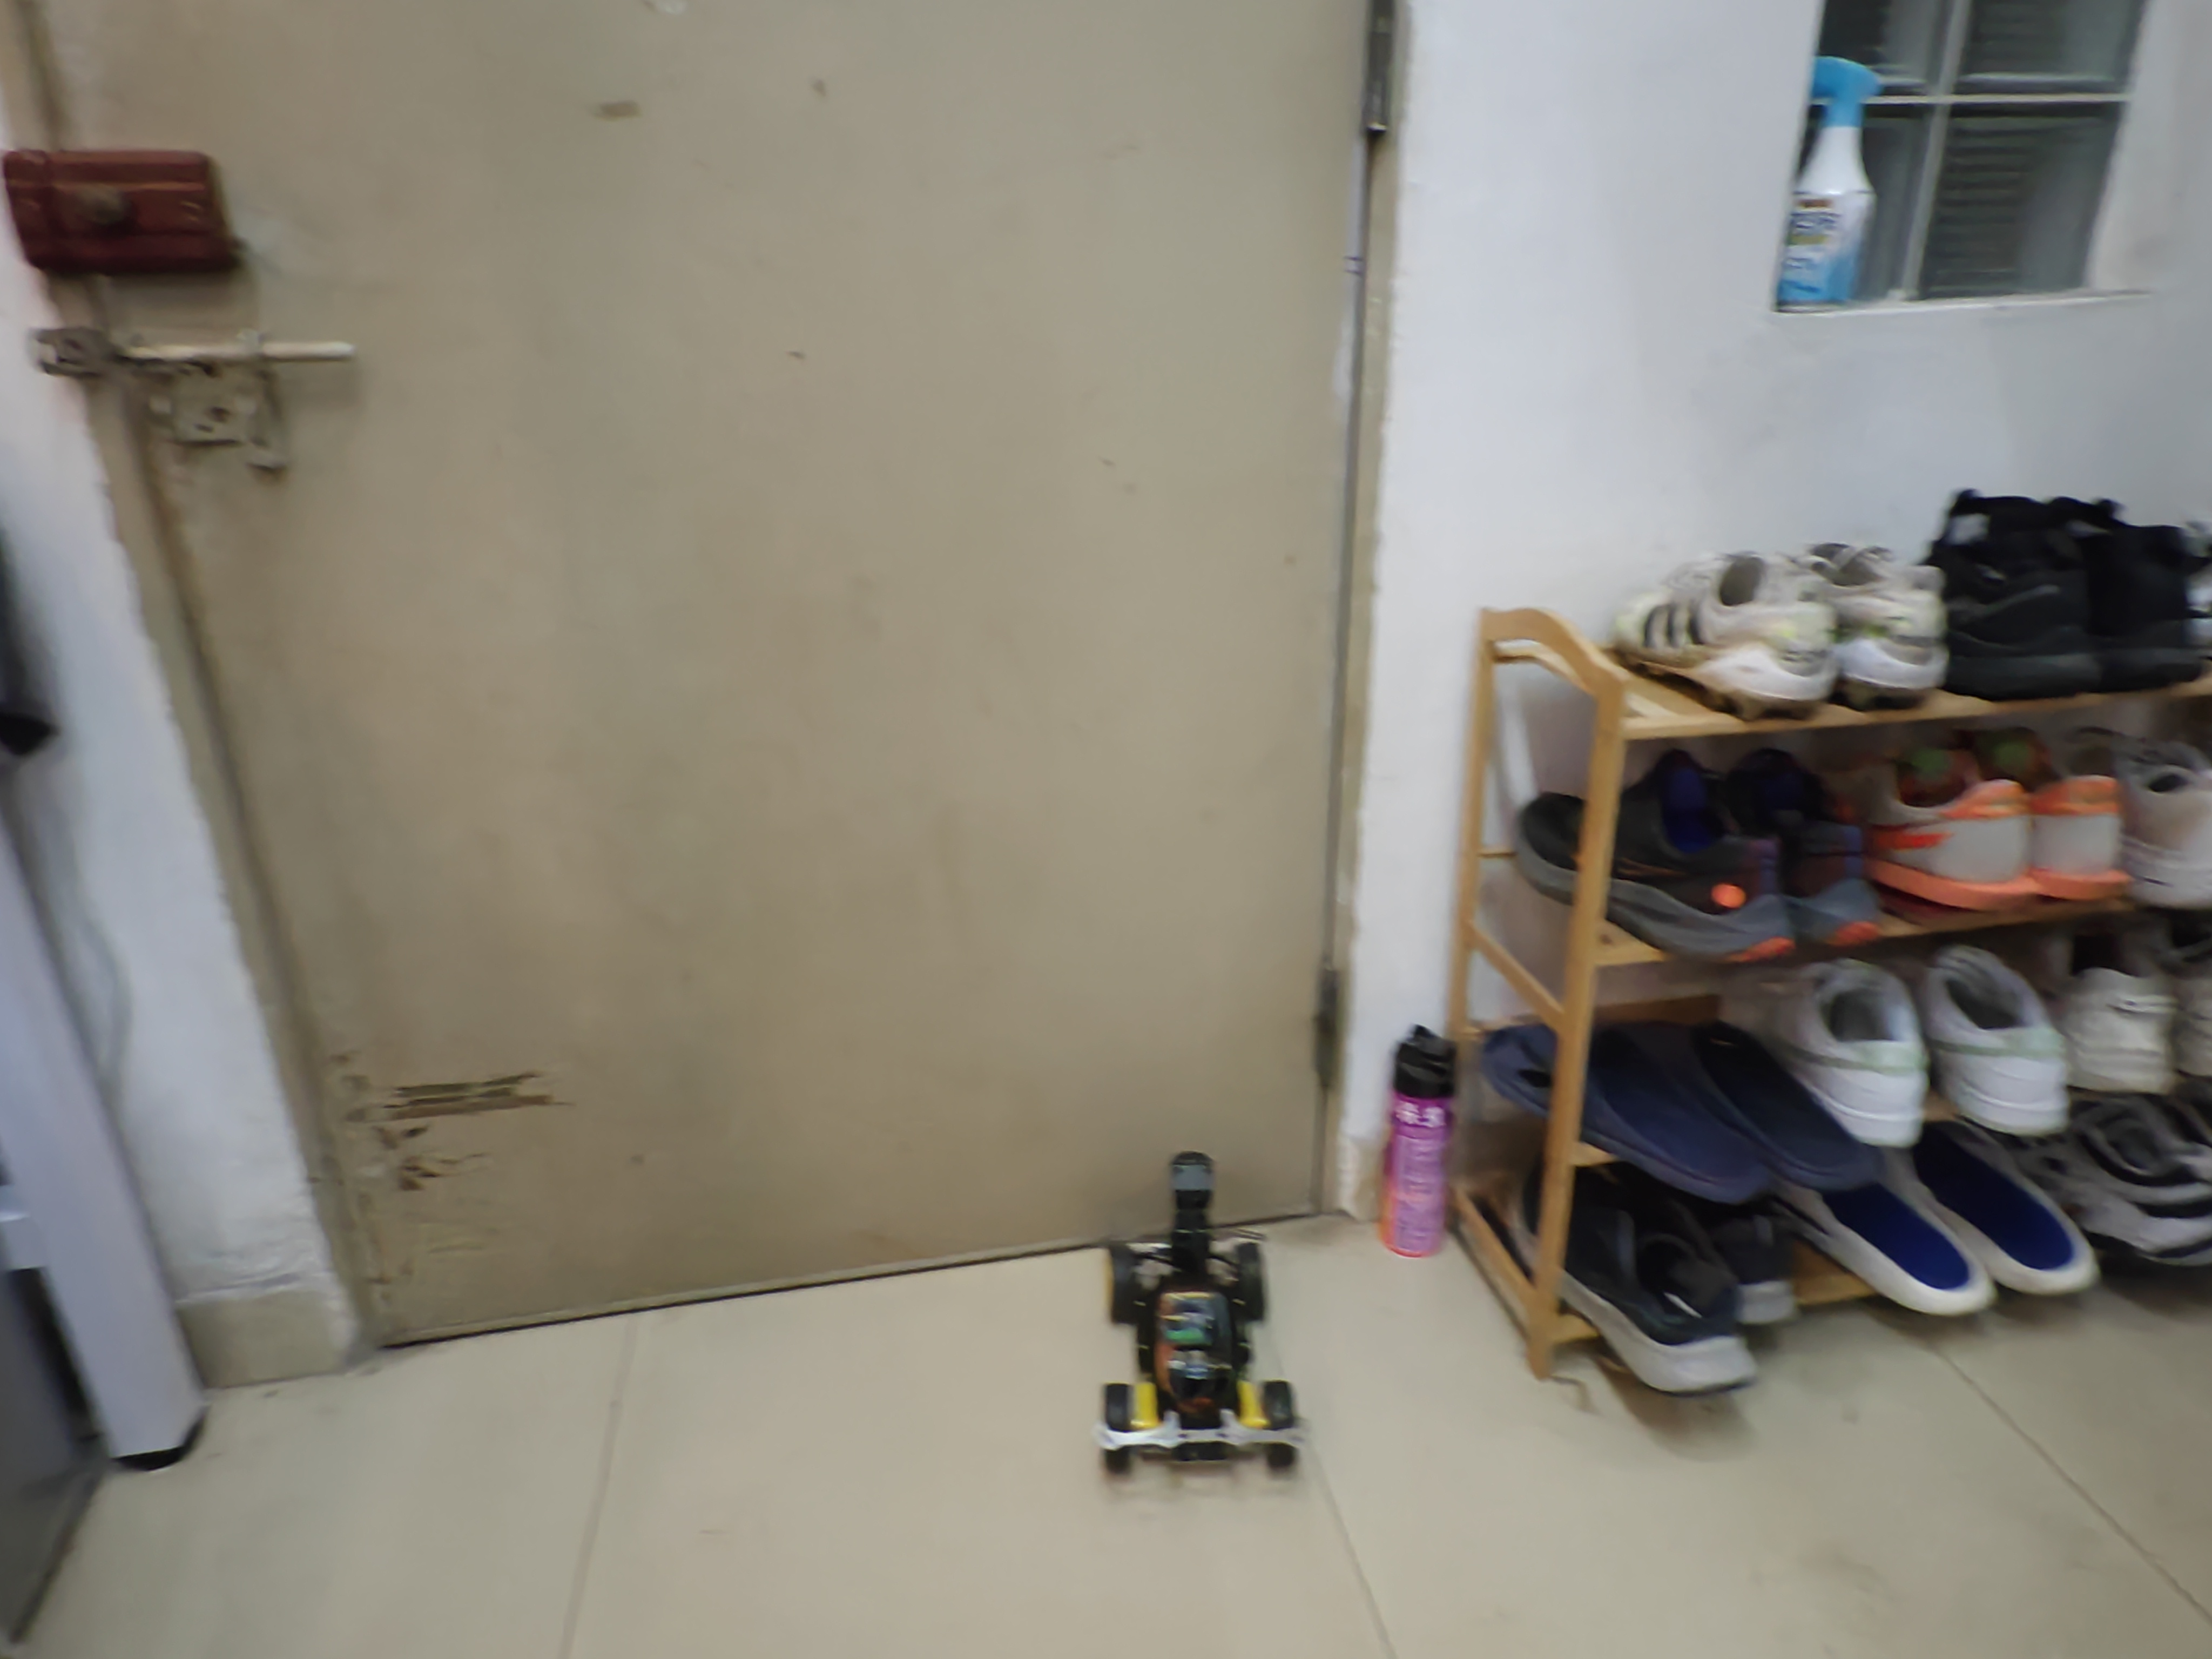car: (1082, 1131, 1324, 1499)
